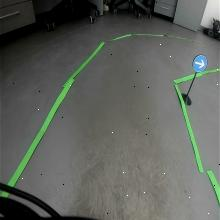right: (193, 55, 207, 71)
